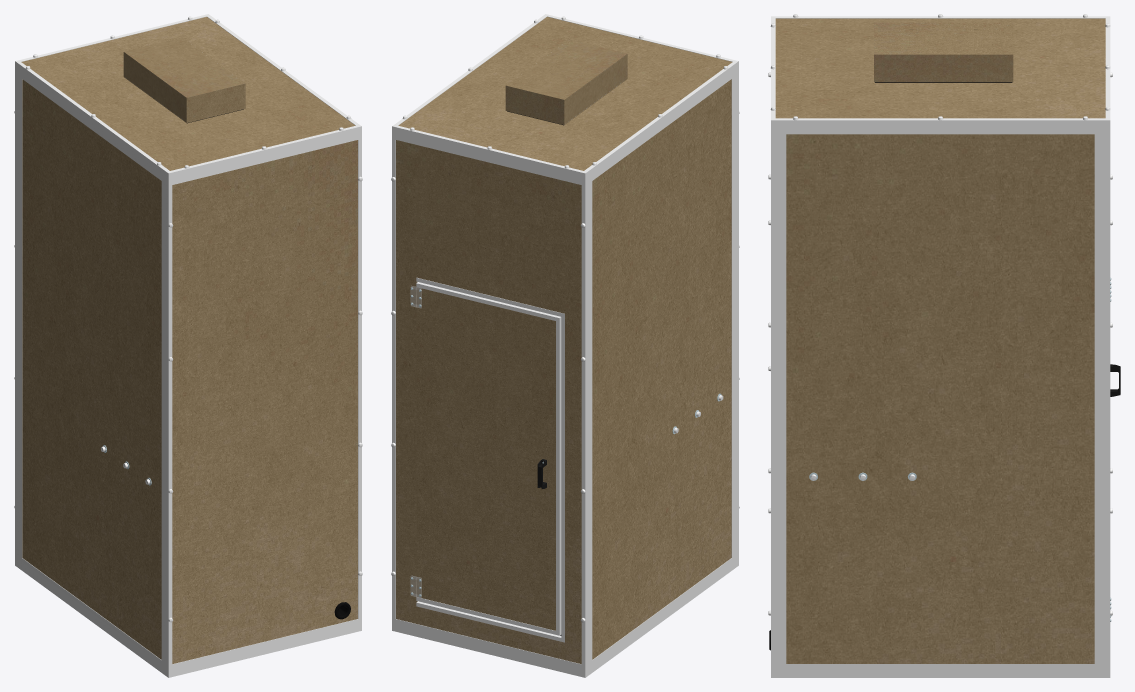
Rendered from danbocchi_tall-v6stl_m2-lowply_joint.fbx.
3 renders of one model, left to right at view 1: azimuth 30°, elevation 25°; view 2: azimuth 150°, elevation 25°; view 3: azimuth 270°, elevation 25°, orthographic. The views are drawn at different scales.
Visible parts, largest first — view 1: d6t RearPanel, d6t RightPanel, d6t RoofPanel, d6t Silencer, d6t FloorPanel, d6t FrontPanel; view 2: d6t RightPanel, d6t FrontPanel, d6t DoorPanel, d6t RoofPanel, d6t Silencer, d6t FloorPanel, d6t RearPanel; view 3: d6t LeftPanel, d6t RoofPanel, d6t Silencer, d6t FrontPanel, d6t RearPanel, d6t FloorPanel.
Boxes of the visible parts, bbox=[...] form: d6t RearPanel: bbox=[163, 135, 362, 668]; d6t RightPanel: bbox=[20, 74, 163, 665]; d6t RoofPanel: bbox=[15, 14, 361, 182]; d6t Silencer: bbox=[123, 37, 245, 123]; d6t FloorPanel: bbox=[15, 557, 361, 677]; d6t FrontPanel: bbox=[14, 70, 19, 559]; d6t RightPanel: bbox=[590, 74, 733, 665]; d6t FrontPanel: bbox=[391, 135, 590, 668]; d6t DoorPanel: bbox=[416, 282, 561, 635]; d6t RoofPanel: bbox=[392, 14, 738, 182]; d6t Silencer: bbox=[505, 39, 627, 125]; d6t FloorPanel: bbox=[392, 557, 738, 677]; d6t RearPanel: bbox=[734, 70, 739, 559]; d6t LeftPanel: bbox=[782, 130, 1099, 668]; d6t RoofPanel: bbox=[770, 14, 1110, 130]; d6t Silencer: bbox=[874, 22, 1013, 82]; d6t FrontPanel: bbox=[1099, 72, 1112, 668]; d6t RearPanel: bbox=[768, 72, 781, 668]; d6t FloorPanel: bbox=[771, 668, 1110, 677].
Bounding box in the file's own units: 80.82 × 206 × 112.
